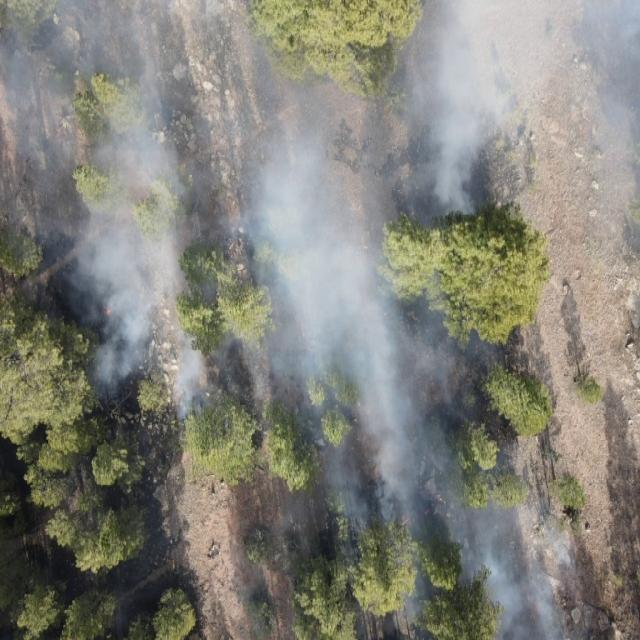fire: (395, 506, 435, 530), (100, 302, 112, 317)
smoke: (0, 0, 500, 420), (278, 497, 574, 640), (500, 0, 640, 222), (302, 419, 500, 498)
